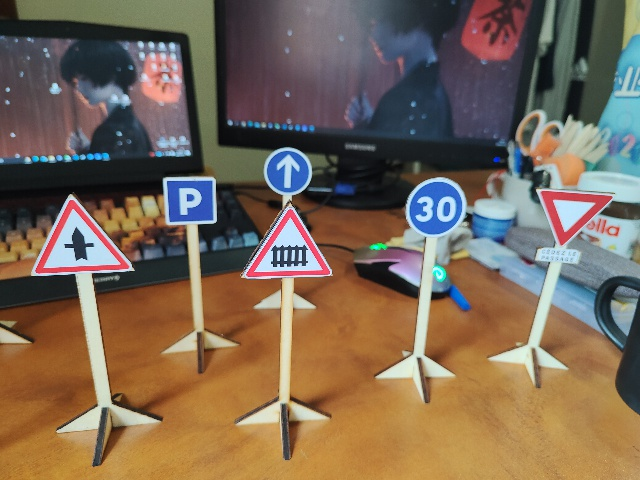P: (162, 175, 219, 224)
first: (32, 200, 134, 276)
second: (535, 187, 609, 265)
straight: (264, 147, 312, 195)
thirty: (405, 176, 468, 235)
train: (240, 203, 333, 279)
